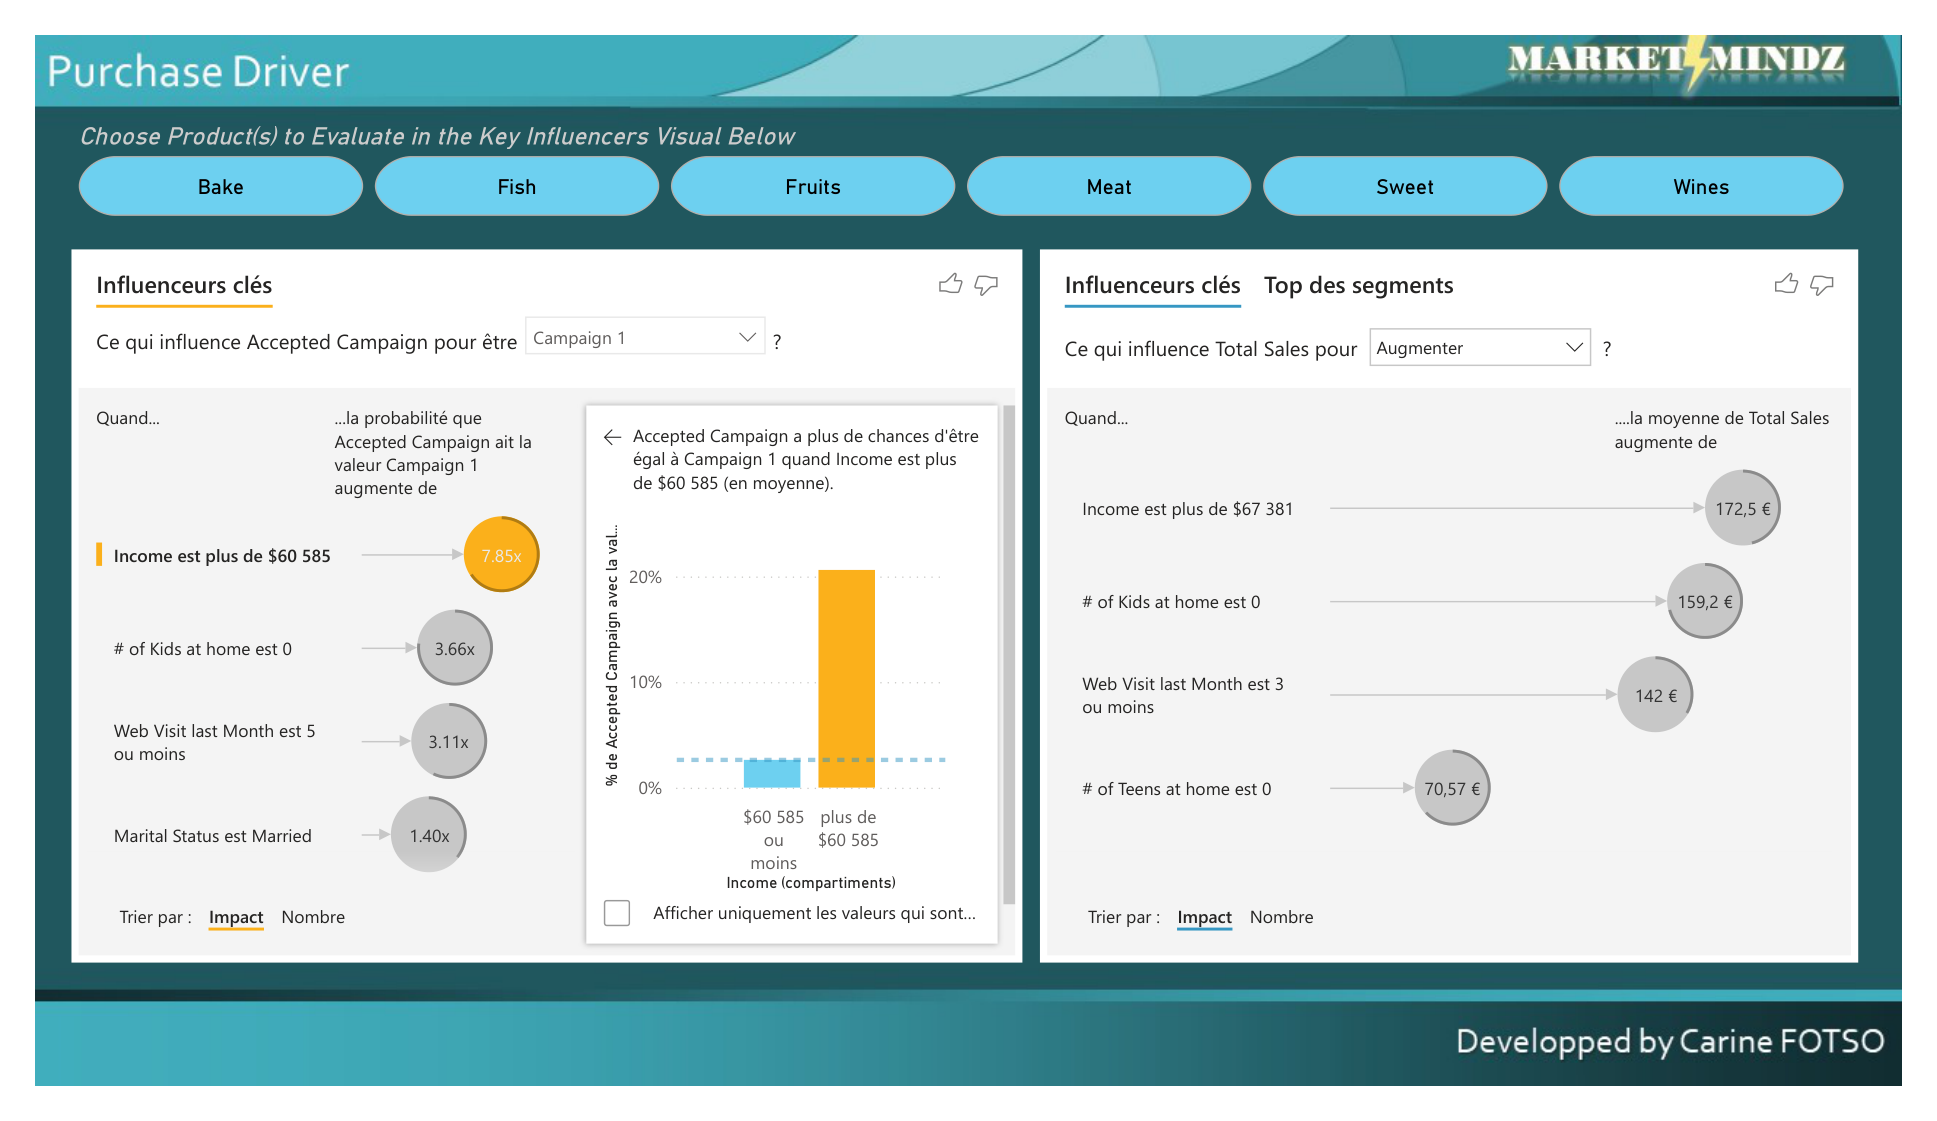

The dashboard page shown, as its layout file describes it:
{"tool":"powerbi","page":{"name":"Purchase Driver","canvas":[1280,720],"ordinal":3},"visuals":[{"type":"keyDriversVisual","fields":{"ExplainBy":["Marketing_data.Age","Marketing_data. Income ","Marketing_data.Country","Marketing_data.Education","Marketing_data.Marital_Status","Marketing_data.Teenhome","Marketing_data.Kidhome","Marketing_data.Web Visit last Month"],"Target":["Campaign.Campaign"]},"box":[25.3,146.9,651.7,489.2],"z":0},{"type":"keyDriversVisual","fields":{"ExplainBy":["Marketing_data.Age","Marketing_data. Income ","Marketing_data.Country","Marketing_data.Education","Marketing_data.Marital_Status","Marketing_data.Teenhome","Marketing_data.Kidhome","Marketing_data.Web Visit last Month"],"Target":["Products.Total Sales"]},"box":[688.6,146.9,561.2,489.2],"z":1000},{"type":"advancedSlicerVisual","title":"Choose  Product(s) to Evaluate in  the Key Influencers Visual Below","fields":{"Values":["Products.products"]},"box":[25.3,59.3,1224.6,70],"z":2000}]}

Visuals, with their boxes in screenshot pixels (x1, y1, x2, y2), scaled from the page's 1280x720 canvas onto the 1937x1121 screenshot:
keyDriversVisual - Marketing_data.Age x Marketing_data. Income : [left=38, top=229, right=1024, bottom=990]
keyDriversVisual - Marketing_data.Age x Marketing_data. Income : [left=1042, top=229, right=1891, bottom=990]
"Choose  Product(s) to Evaluate in  the Key Influencers Visual Below" advancedSlicerVisual: [left=38, top=92, right=1891, bottom=201]
